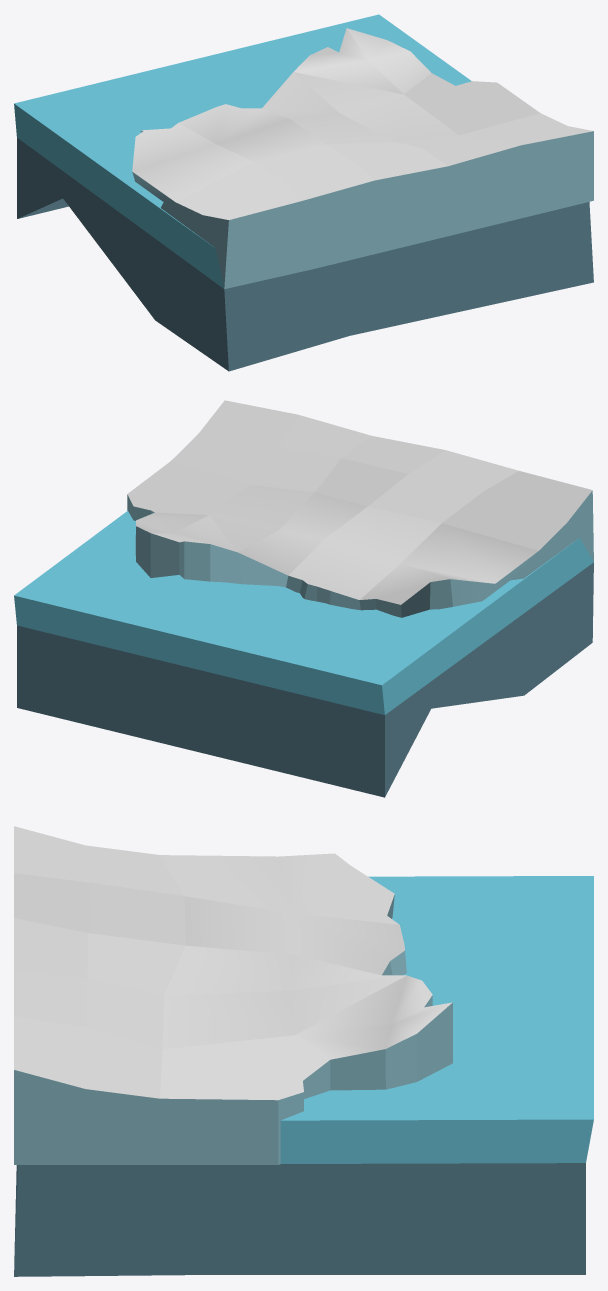
The model's file is ice02.fbx.
3 views of the same model, one above another, from view 1: azimuth 30°, elevation 25°; view 2: azimuth 150°, elevation 25°; view 3: azimuth 270°, elevation 25° (orthographic). The views are drawn at different scales.
Visible parts, largest first — view 1: nature_artic_terrain, nature_artic_terrain_water; view 2: nature_artic_terrain, nature_artic_terrain_water; view 3: nature_artic_terrain, nature_artic_terrain_water.
Boxes of the visible parts, x1=… form: nature_artic_terrain: x1=17, y1=28, x2=593, y2=371; nature_artic_terrain_water: x1=14, y1=14, x2=471, y2=288; nature_artic_terrain: x1=17, y1=400, x2=593, y2=797; nature_artic_terrain_water: x1=14, y1=511, x2=593, y2=714; nature_artic_terrain: x1=14, y1=826, x2=585, y2=1276; nature_artic_terrain_water: x1=280, y1=876, x2=593, y2=1163.
Size of the model in its own units: 20.16 by 8.28 by 20.12.
